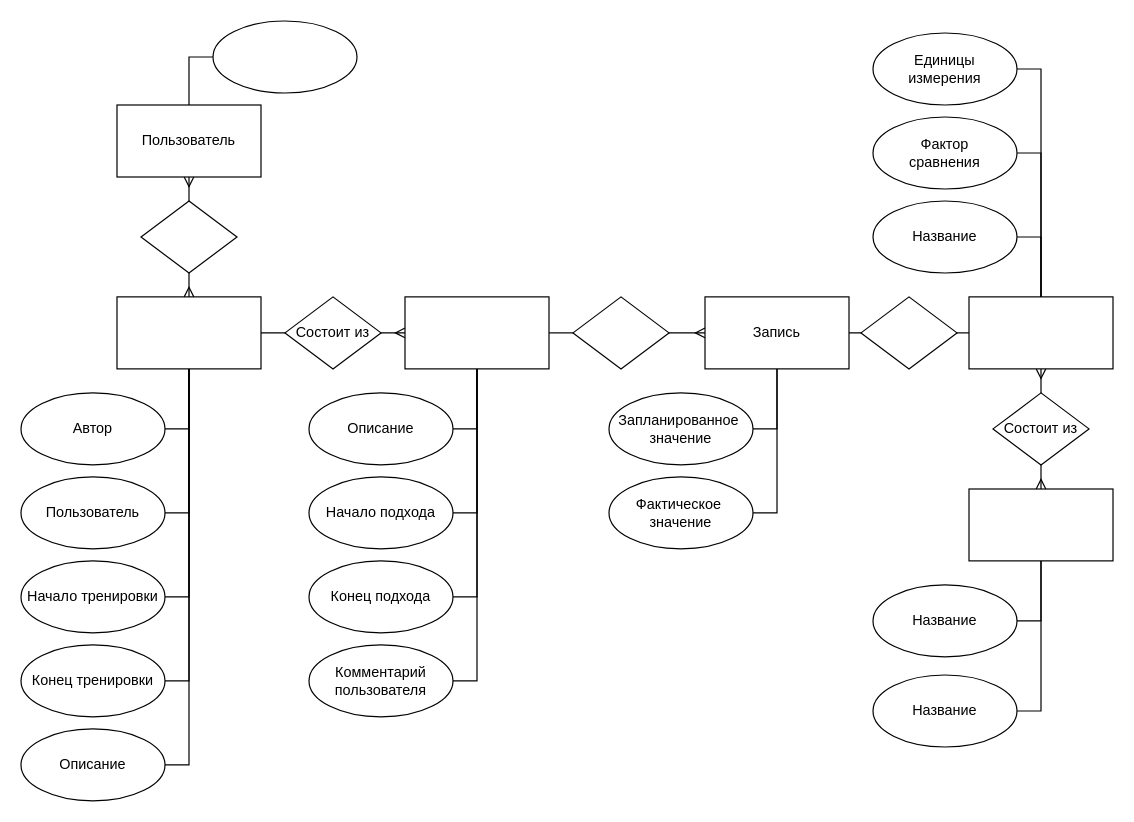
This 1134x822 diagram has some shape labels left out. The shapes that lost their labels are listed below. From the top down, each one's centre as x and y in pixels, then its label:
At point 284,56: "ФИО".
At point 188,236: "Участвует".
At point 188,332: "Тренировка".
At point 476,332: "Подход".
At point 620,332: "Описывает".
At point 908,332: "Фиксирует".
At point 1040,332: "Параметр упражнения".
At point 1040,524: "Упражнение".
